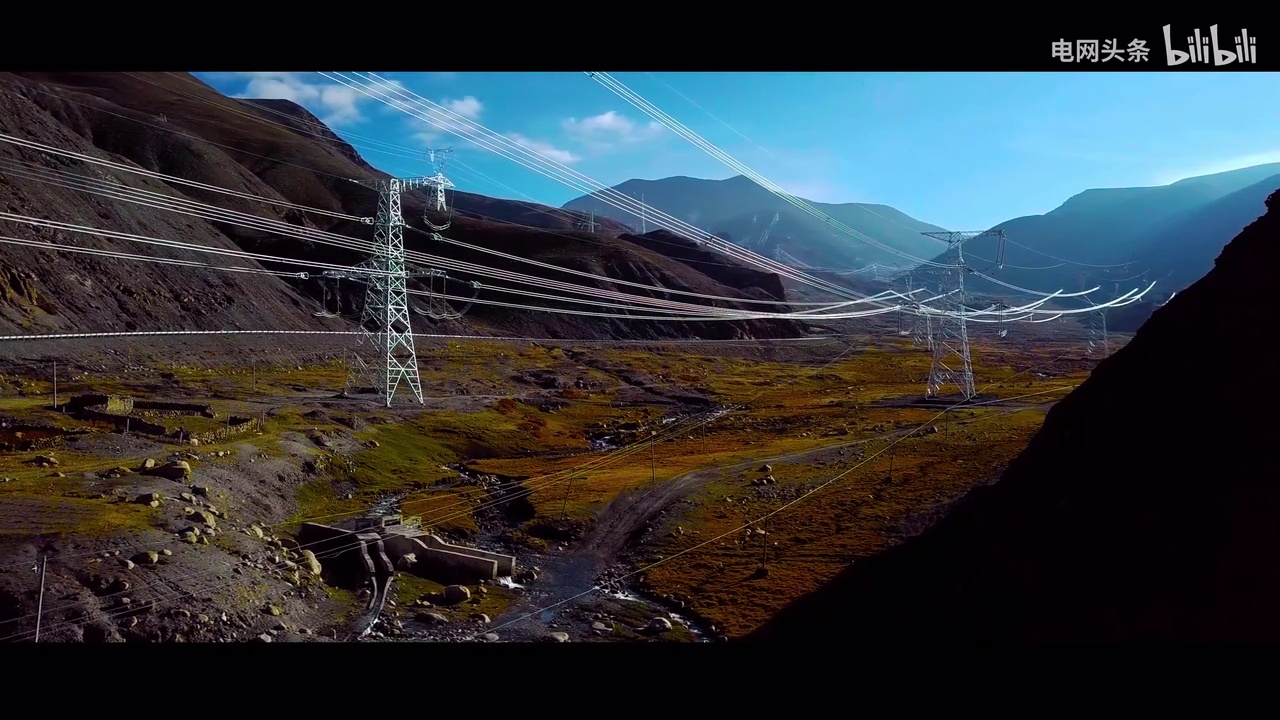tower_body: (316, 157, 462, 417), (909, 216, 1014, 411)
tower_foot: (339, 348, 429, 408), (921, 356, 985, 406)
tower_head: (324, 161, 456, 216), (919, 223, 1007, 266)
